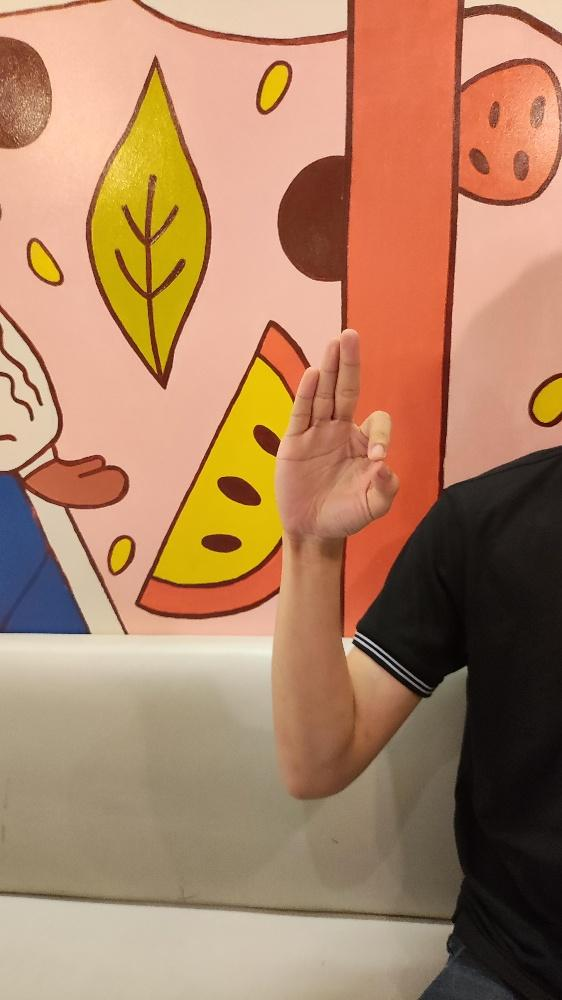f: (271, 326, 402, 543)
